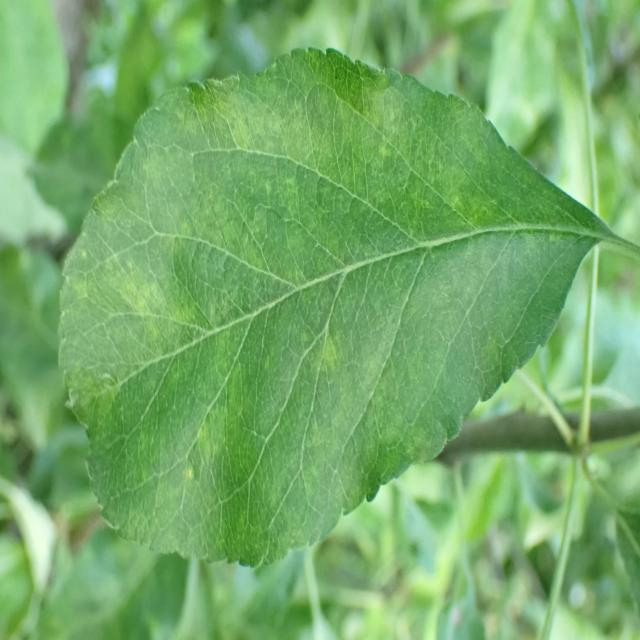scab: (65, 77, 601, 482)
